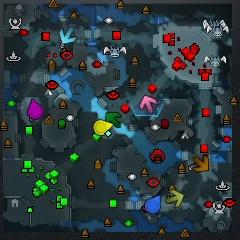p1: (145, 196, 161, 214)
p3: (27, 99, 44, 120)
p4: (94, 120, 113, 135)
x1: (139, 96, 157, 114)
x2: (166, 190, 184, 207)
x3: (60, 27, 76, 44)
x4: (105, 112, 121, 128)
x5: (193, 156, 209, 172)
